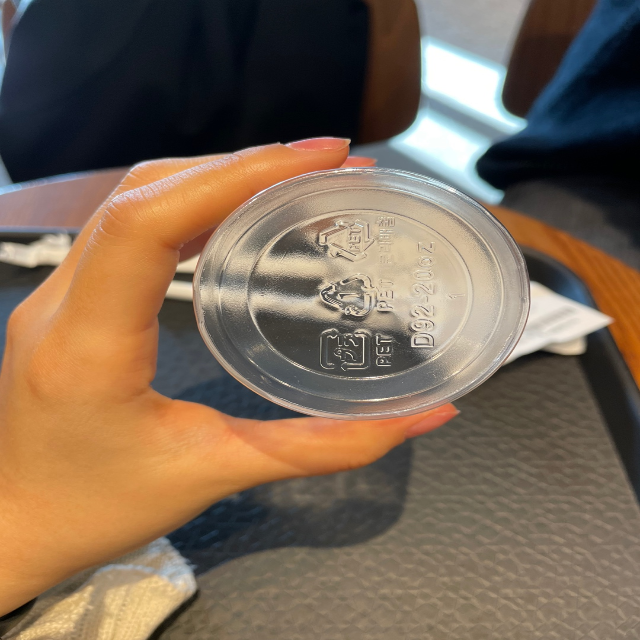pet: (304, 202, 397, 273), (313, 320, 400, 377), (318, 269, 401, 320)
